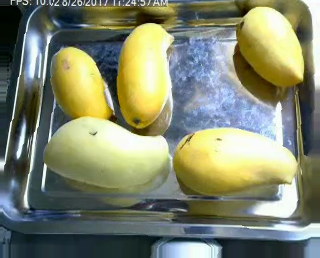Mango: (40, 115, 169, 190), (173, 124, 300, 197), (113, 19, 177, 129), (233, 6, 308, 87), (48, 44, 115, 121)
